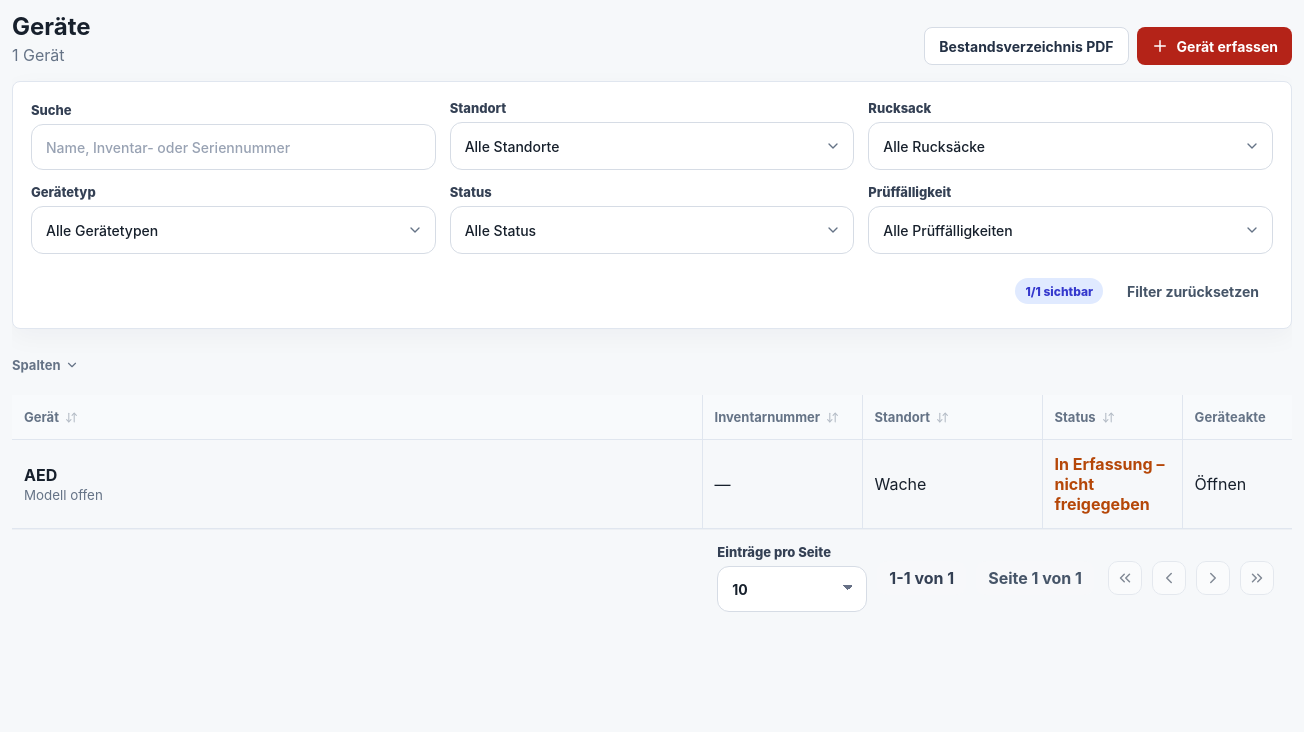
Test: MPG page structure › filters devices in the shared toolbar and resets every filter
The image size is (1304, 732).
Expected: the element named "Geräte filtern" is shown, [12,81,1292,329]
Type "Thermometer" into the search field labelled "Suche" at (233, 147), box [31,124,436,170]
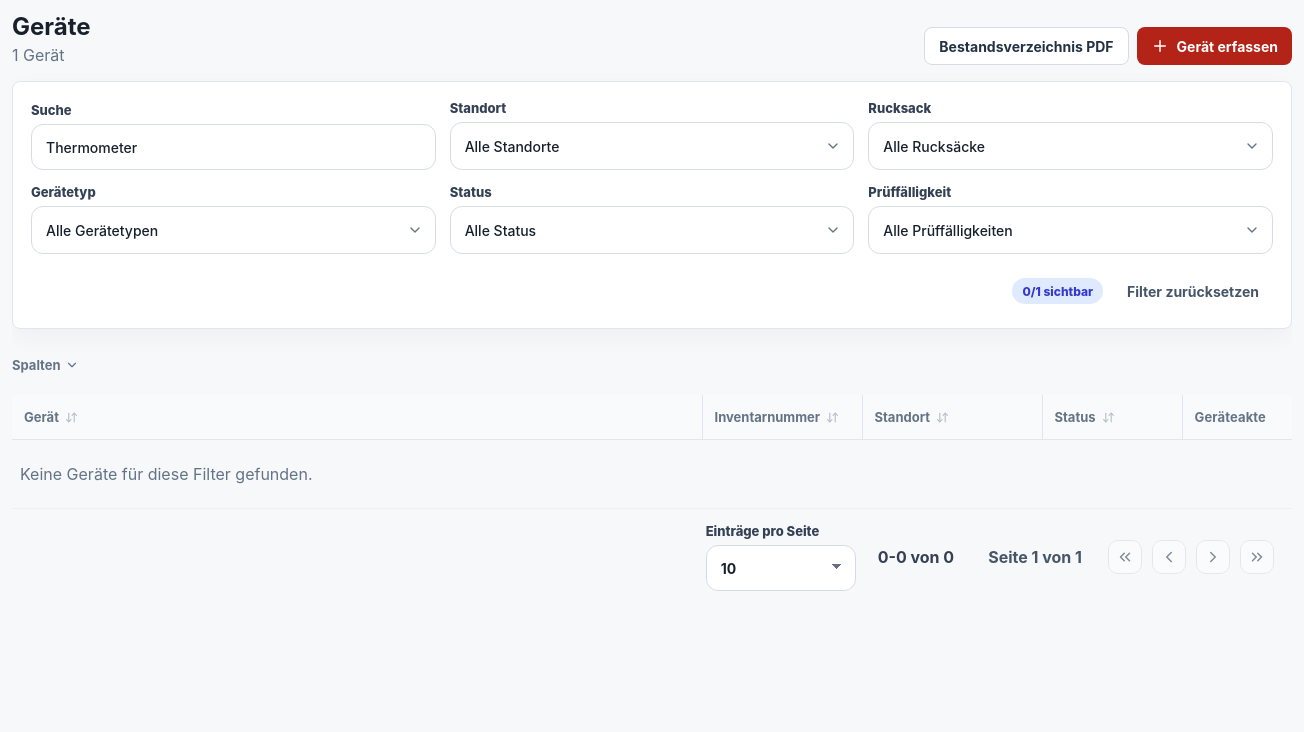
Result: the text "0/1 sichtbar" is shown at [1022,284,1093,299]
Click the button "Filter zurücksetzen" at (1193, 291), box [1113,272,1273,310]
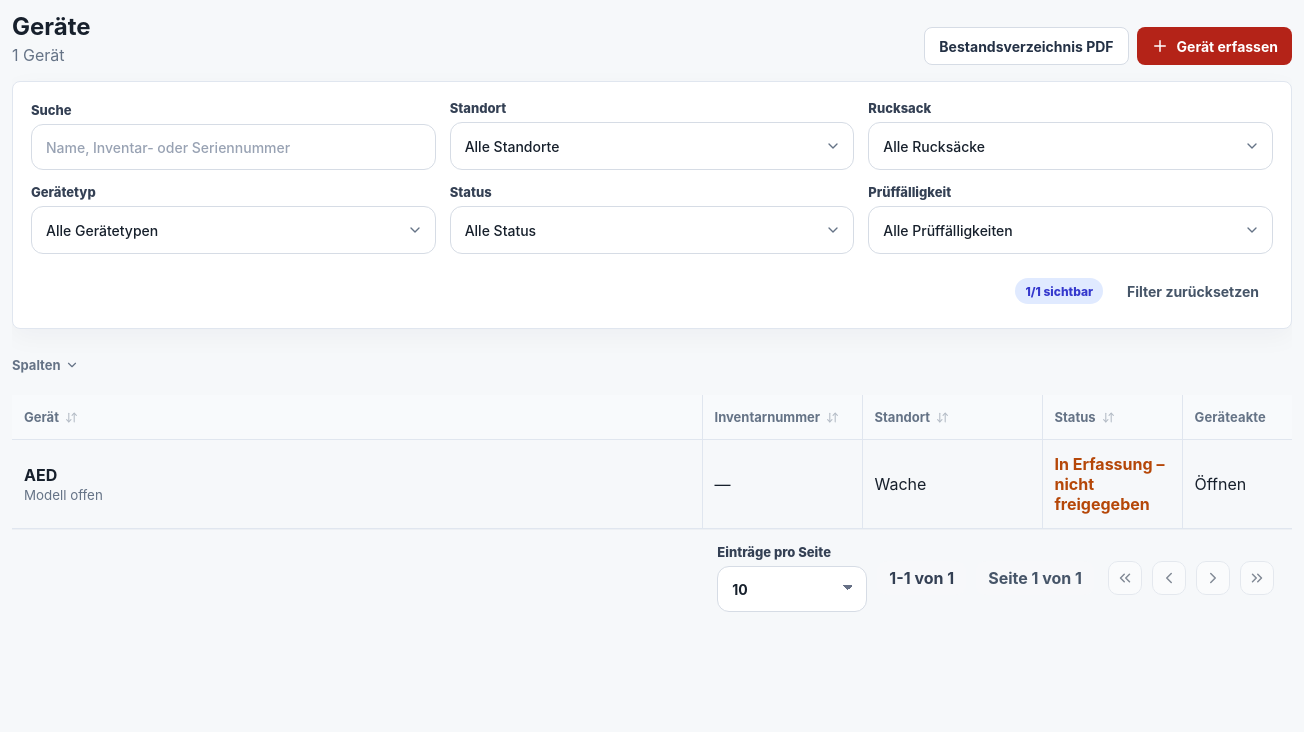
Result: the search field labelled "Suche" is empty at [31,124,436,170]
Result: the text "1/1 sichtbar" is shown at [1026,284,1093,299]
